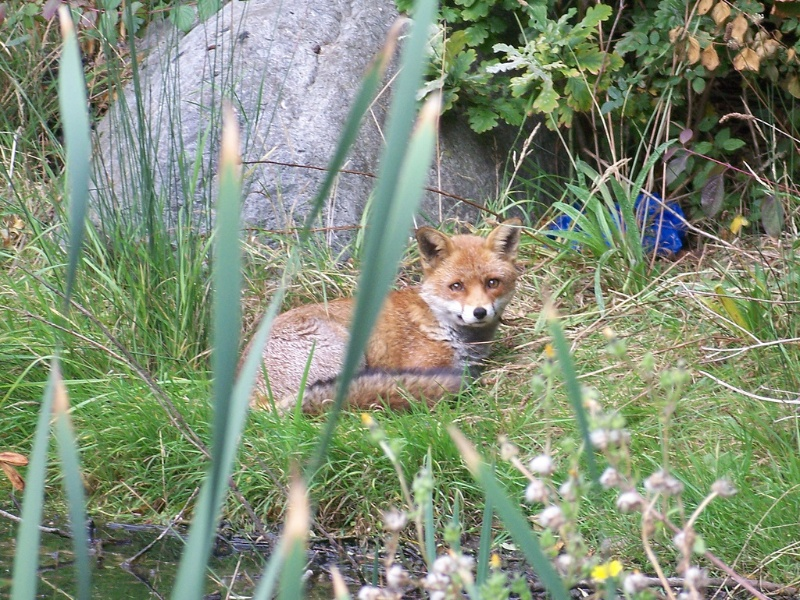fox: (240, 216, 525, 423)
